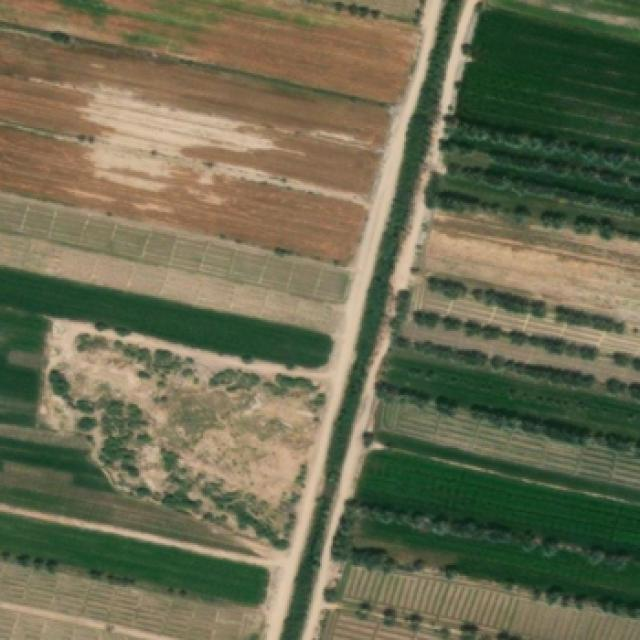ruins: (175, 152, 372, 256), (41, 486, 238, 553), (3, 124, 111, 207), (390, 461, 512, 526), (238, 33, 373, 89), (0, 562, 86, 624), (88, 585, 178, 635), (444, 586, 527, 632)
vegetation: (444, 114, 635, 194), (420, 282, 633, 343)
